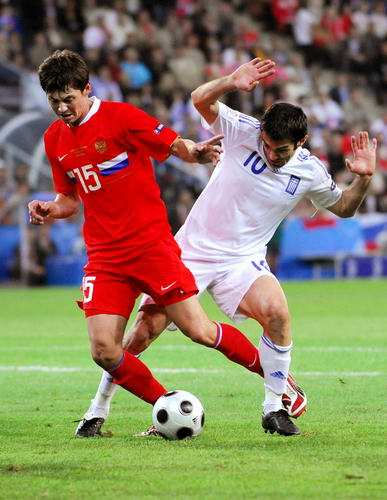no-phone: (342, 128, 381, 179), (233, 54, 280, 93)
